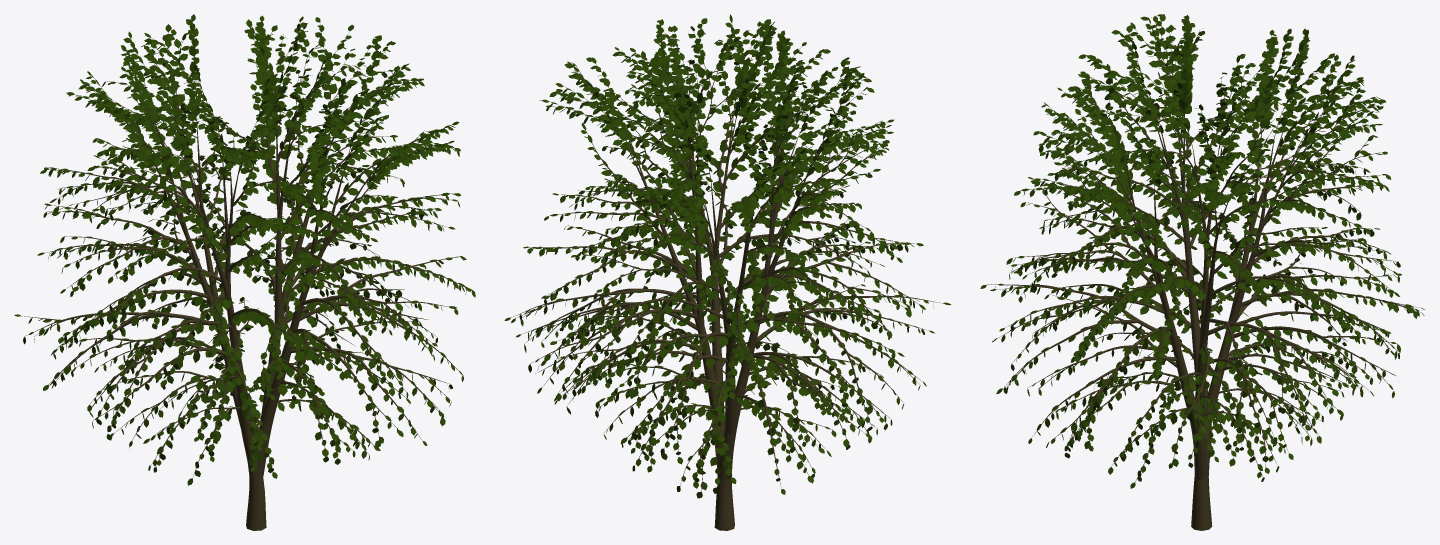
The model's file is tree-v2.glb.
The picture shows the model from 3 angles, left to right: view 1: azimuth 30°, elevation 25°; view 2: azimuth 150°, elevation 25°; view 3: azimuth 270°, elevation 25°; orthographic projection.
Visible parts, largest first — view 1: leaves, tree; view 2: leaves, tree; view 3: leaves, tree.
Boxes of the visible parts, left/top/right/bottom form: leaves: left=14, top=14, right=475, bottom=485; tree: left=21, top=22, right=470, bottom=530; leaves: left=504, top=14, right=951, bottom=498; tree: left=511, top=22, right=941, bottom=530; leaves: left=980, top=14, right=1424, bottom=488; tree: left=987, top=17, right=1420, bottom=530.
Size of the model in its own units: 9.15 by 11.45 by 9.48.
2 materials, 2 textured.
